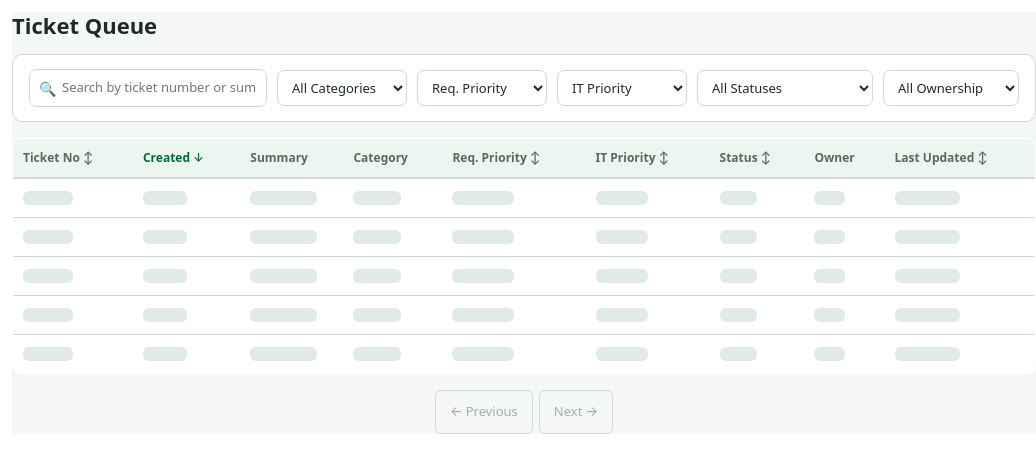
Scenario: UI-03: Staff Ticket Queue Component (Lab 3 — Issue #5) › Search input › shows 'Clear Filters' button after search text is entered
Type "test query" into the field with placeholder "Search by ticket number or summary…" at (148, 88), box 29,69 -> 267,107
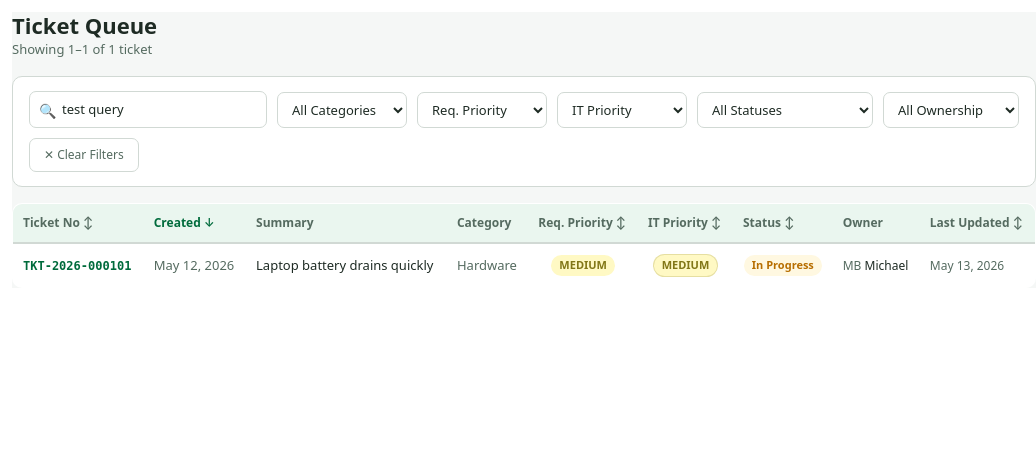
Now the button with aria-label "clear all filters" is shown, box 29,138 -> 139,172
